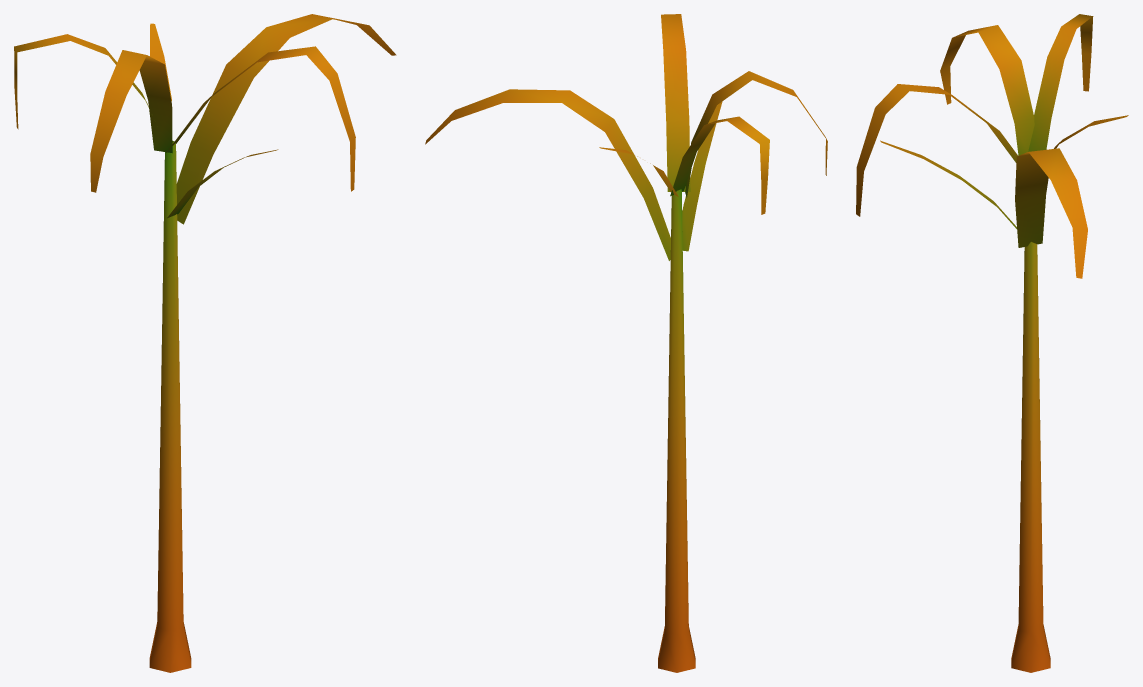
The model's file is SM_SugarCanePlants_10.fbx.
The picture shows the model from 3 angles, left to right: view 1: azimuth 30°, elevation 25°; view 2: azimuth 150°, elevation 25°; view 3: azimuth 270°, elevation 25°; orthographic projection. The views are drawn at different scales.
Parts seen in each view (by area): view 1: SM_SugarCanePlants_10; view 2: SM_SugarCanePlants_10; view 3: SM_SugarCanePlants_10.
Boxes of the visible parts, x1,y1,x2,y2 form: SM_SugarCanePlants_10: [14, 14, 396, 672]; SM_SugarCanePlants_10: [425, 14, 827, 672]; SM_SugarCanePlants_10: [856, 14, 1128, 672].
Bounding box in the file's own units: 0.7548 × 1.23 × 0.4983.
